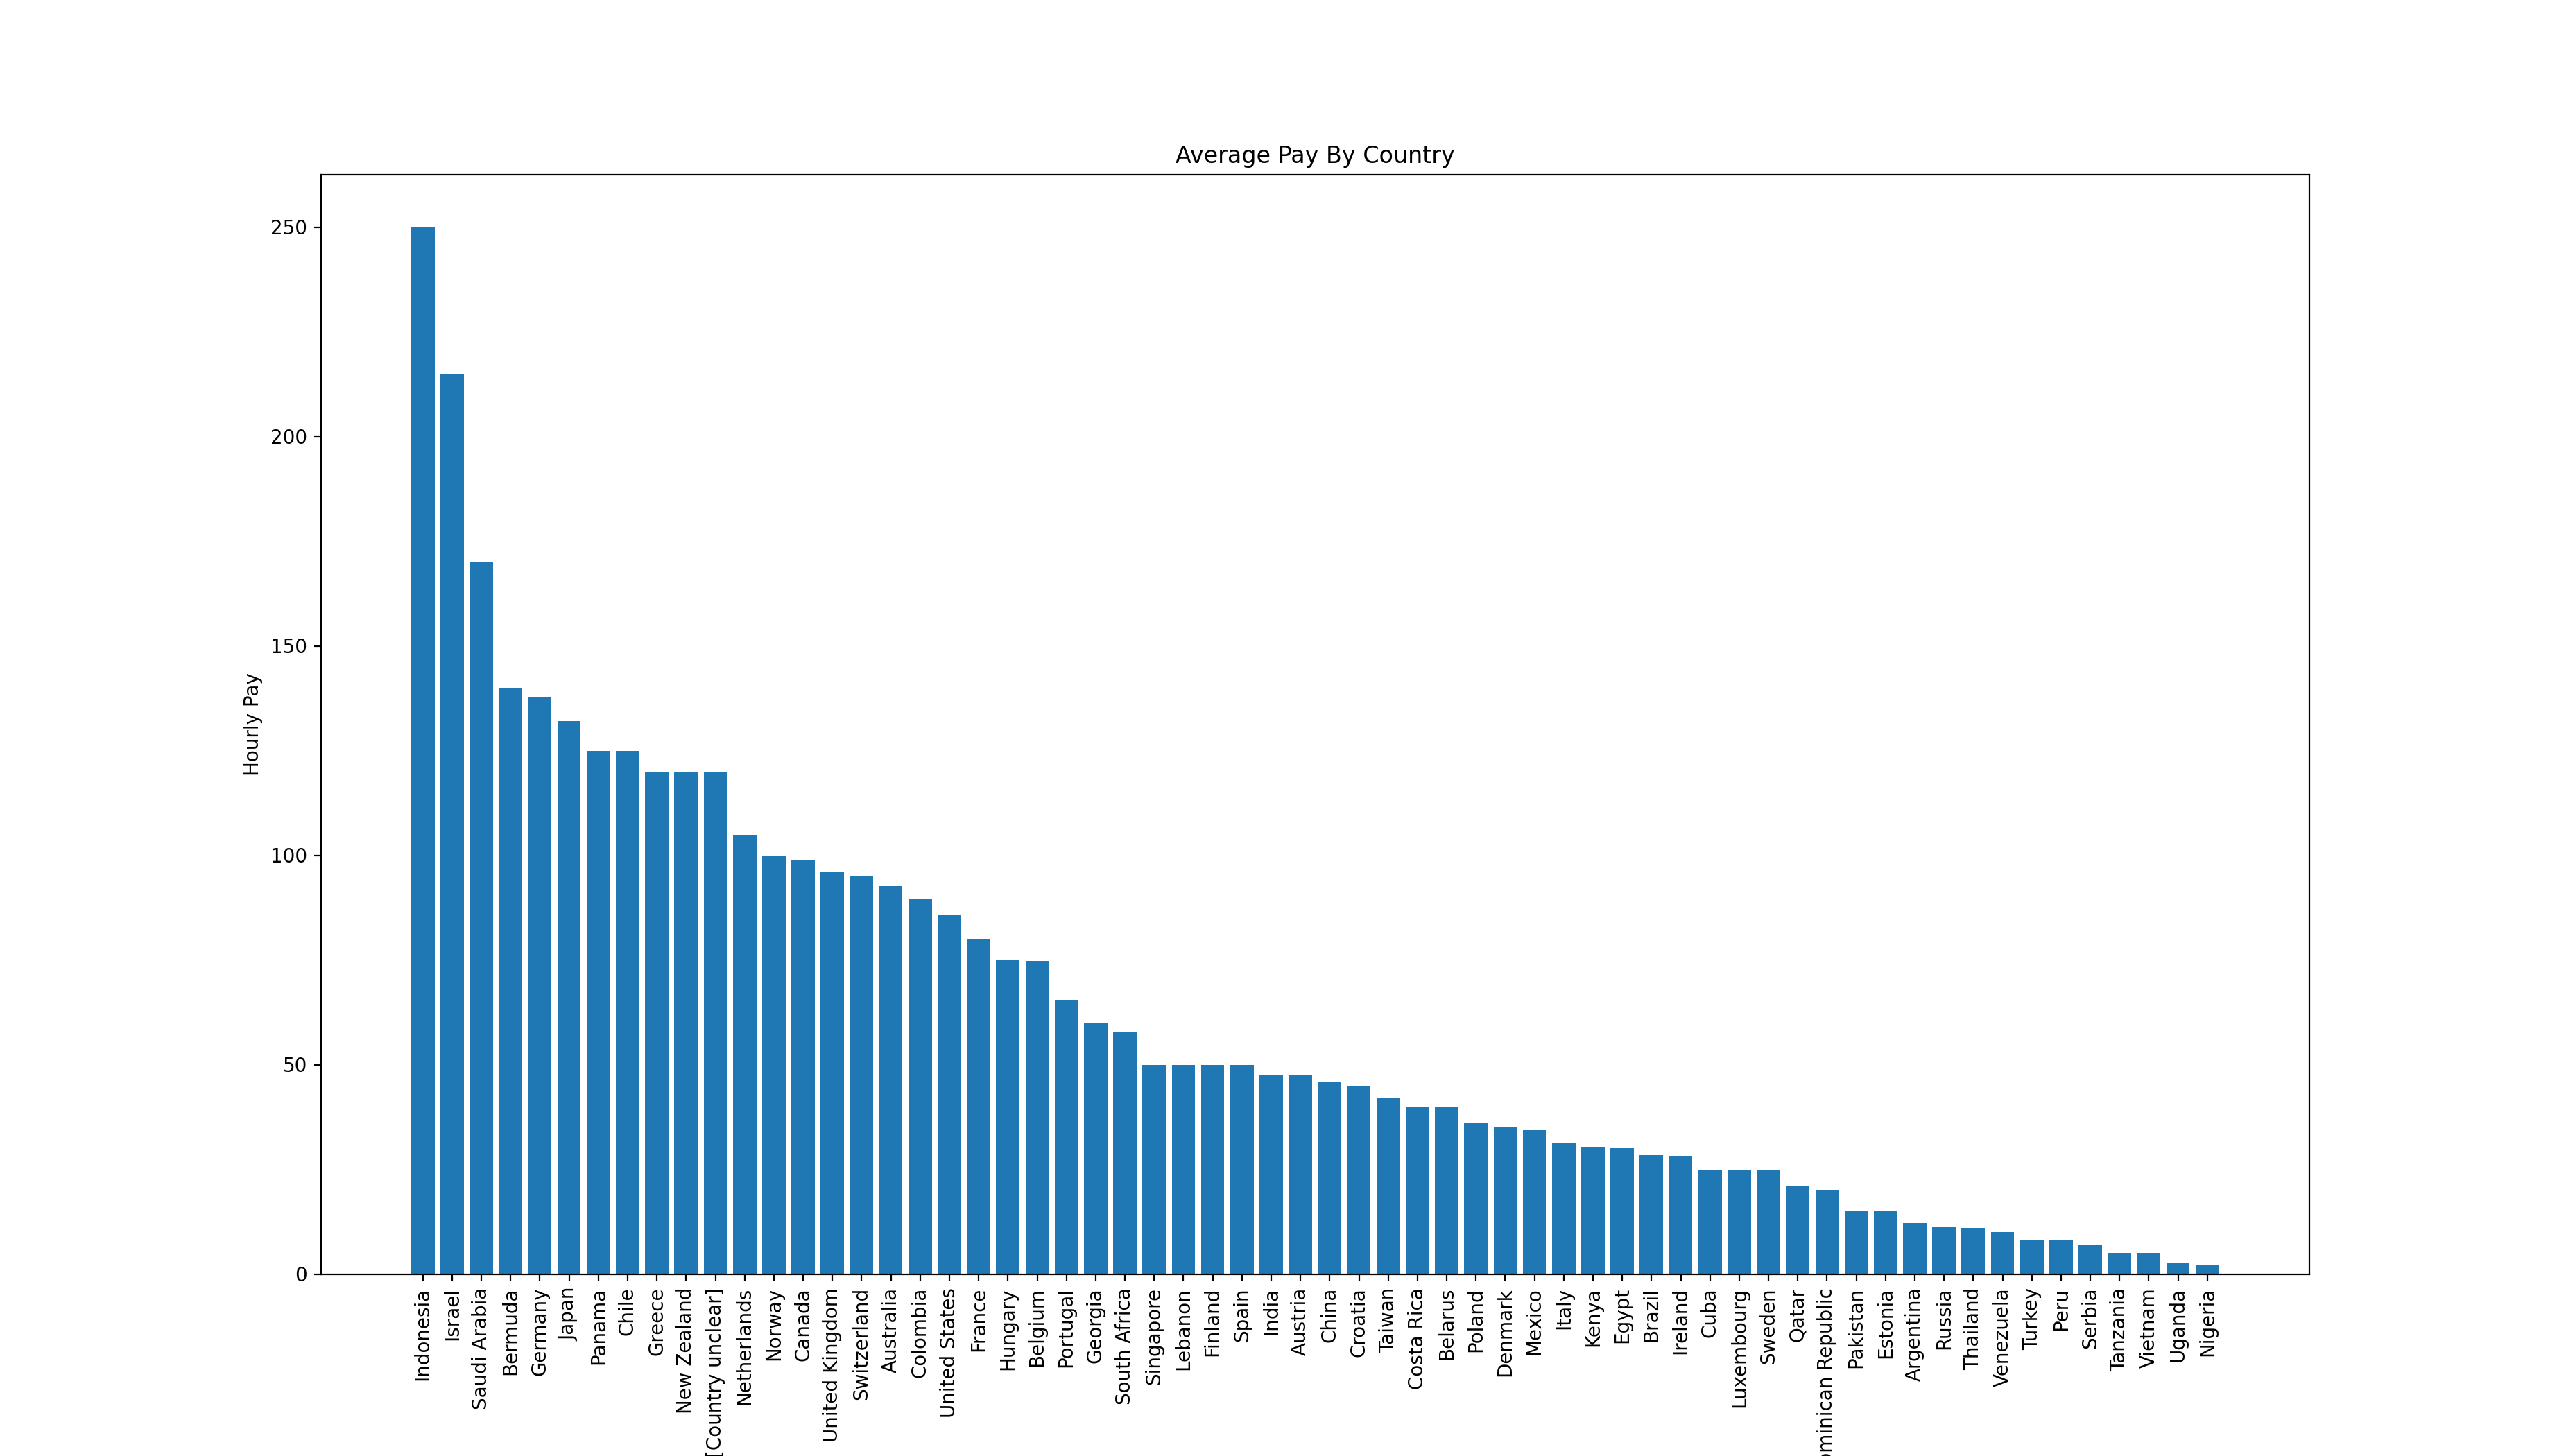

This screenshot's page, from the dashboard's own definition file:
{"tool":"tableau","page":{"name":"Dashboard 1","canvas":[1000,800],"ordinal":0},"visuals":[{"type":"worksheet","title":"Sheet 2","mark":"Automatic","cols":["RoleMultichoice"],"box":[8,8,824,784]},{"type":"legend","title":"Sheet 2","param":"[federated.065012m12chdym10juw4k0op4jla].[none:PayAnnual:nk]","box":[832,8,160,261]}]}

Visuals, with their boxes on the page's 1000x800 design canvas (x1, y1, x2, y2). These are canvas units, not pixel positions in the 2566x1456 screenshot, which may show the page scaled, cropped or inside an application window:
"Sheet 2" worksheet: bbox=[8, 8, 832, 792]
"Sheet 2" legend: bbox=[832, 8, 992, 269]
